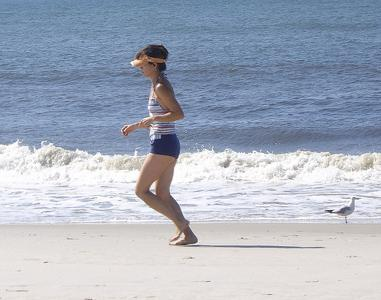person: (123, 45, 200, 247)
